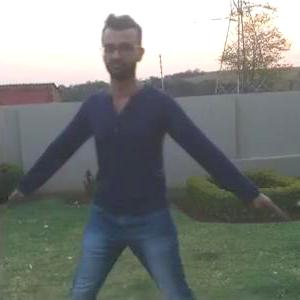land: (27, 30, 246, 299)
